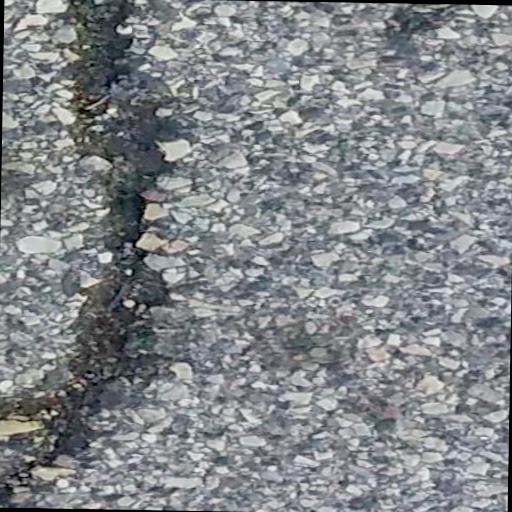spalling: (4, 0, 193, 506)
